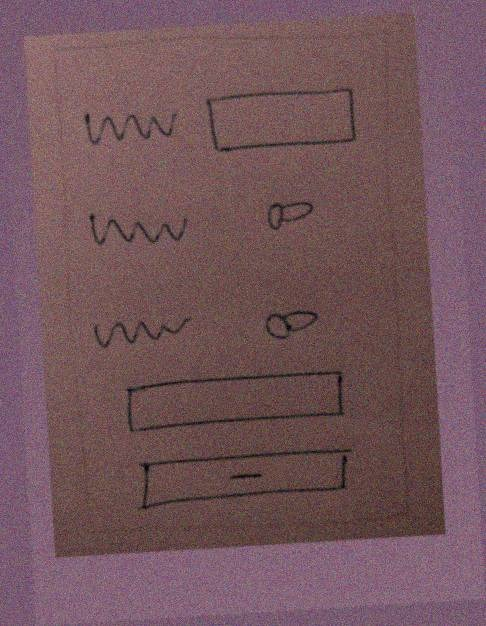button: (131, 440, 359, 516)
switch: (255, 297, 332, 347), (247, 190, 325, 239)
text: (83, 197, 198, 261), (77, 100, 184, 155), (87, 309, 196, 354)
text_input: (119, 366, 356, 438), (200, 82, 367, 161)
